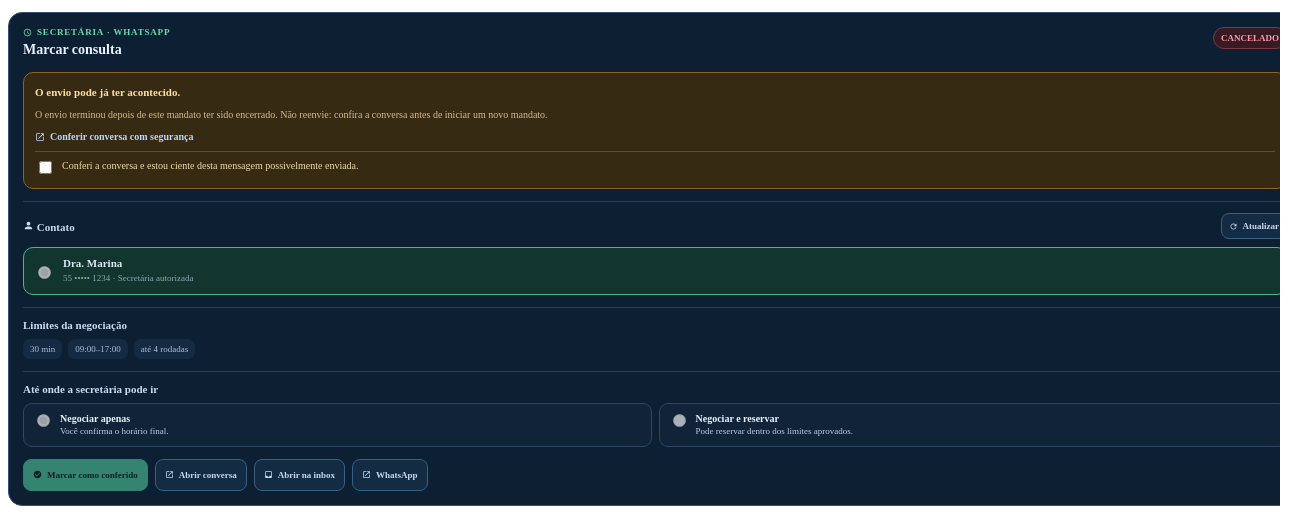
WhatsApp scheduling card › acknowledges reviewed terminal outbound attention (outbound_sent_after_state_changed) without offering resend actions
Expected: the text "O envio pode já ter acontecido." is shown, [35,86,180,98]
Expected: the link "Conferir conversa com segurança" is shown, [35,129,193,144]
Click the checkbox labelled "estou ciente desta mensagem possivelmente enviada": [46, 168] box [39,161,52,174]
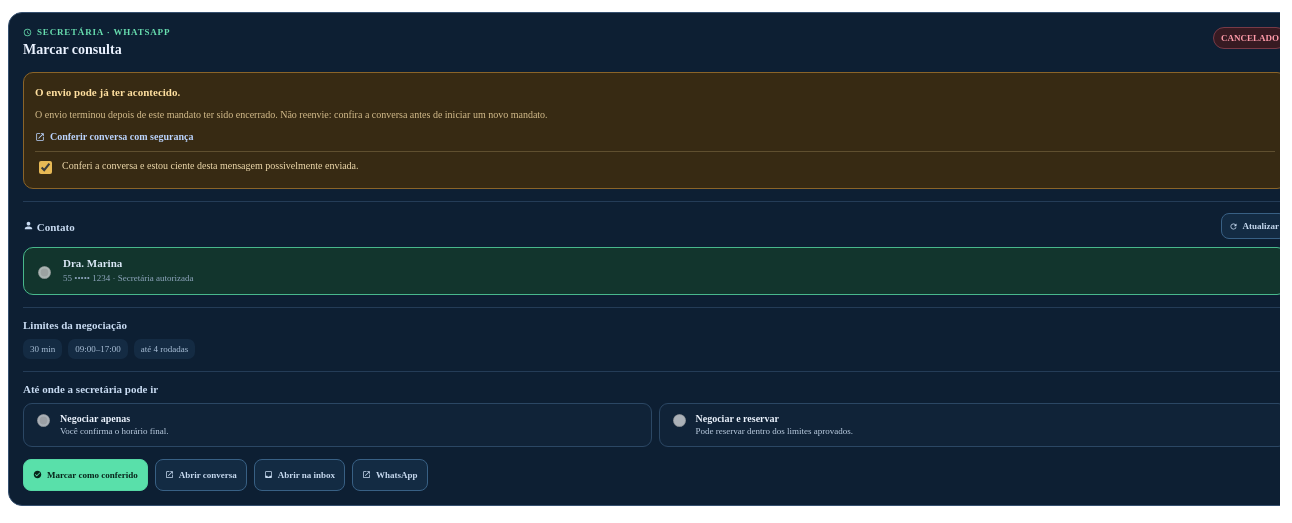
Now the button "Marcar como conferido" is enabled
Click the button "Marcar como conferido": [85, 475] box [23,459,148,491]
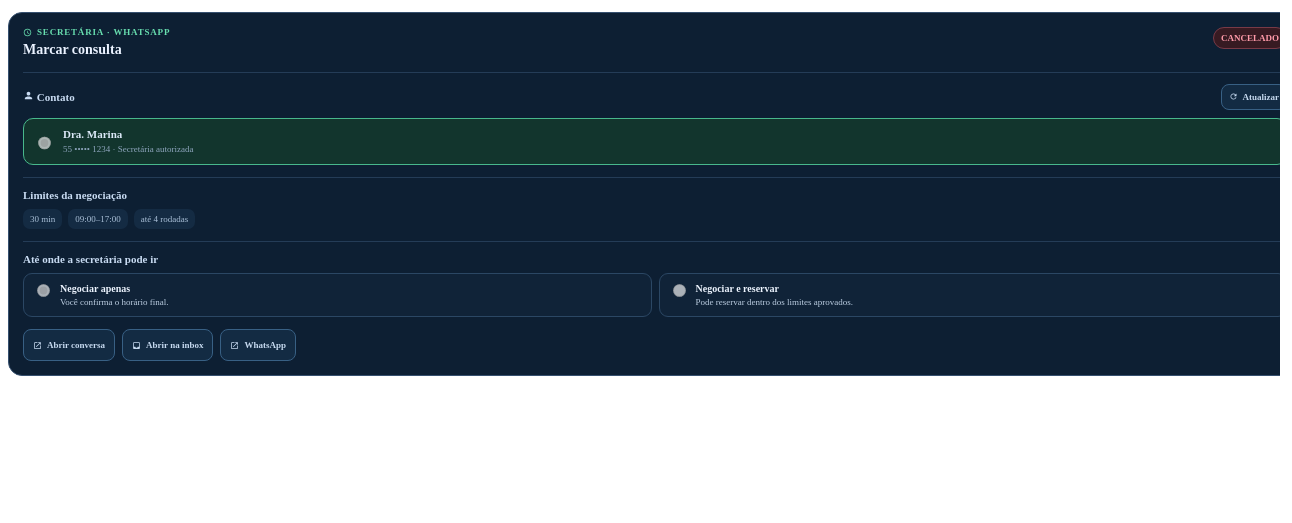
Now the button "Marcar como conferido" is gone
